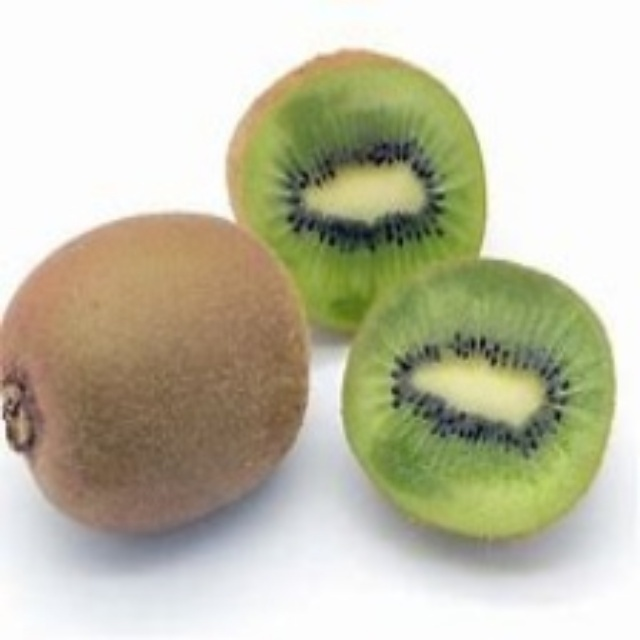kiwi: (3, 221, 308, 531), (330, 257, 622, 546), (225, 34, 489, 328)
